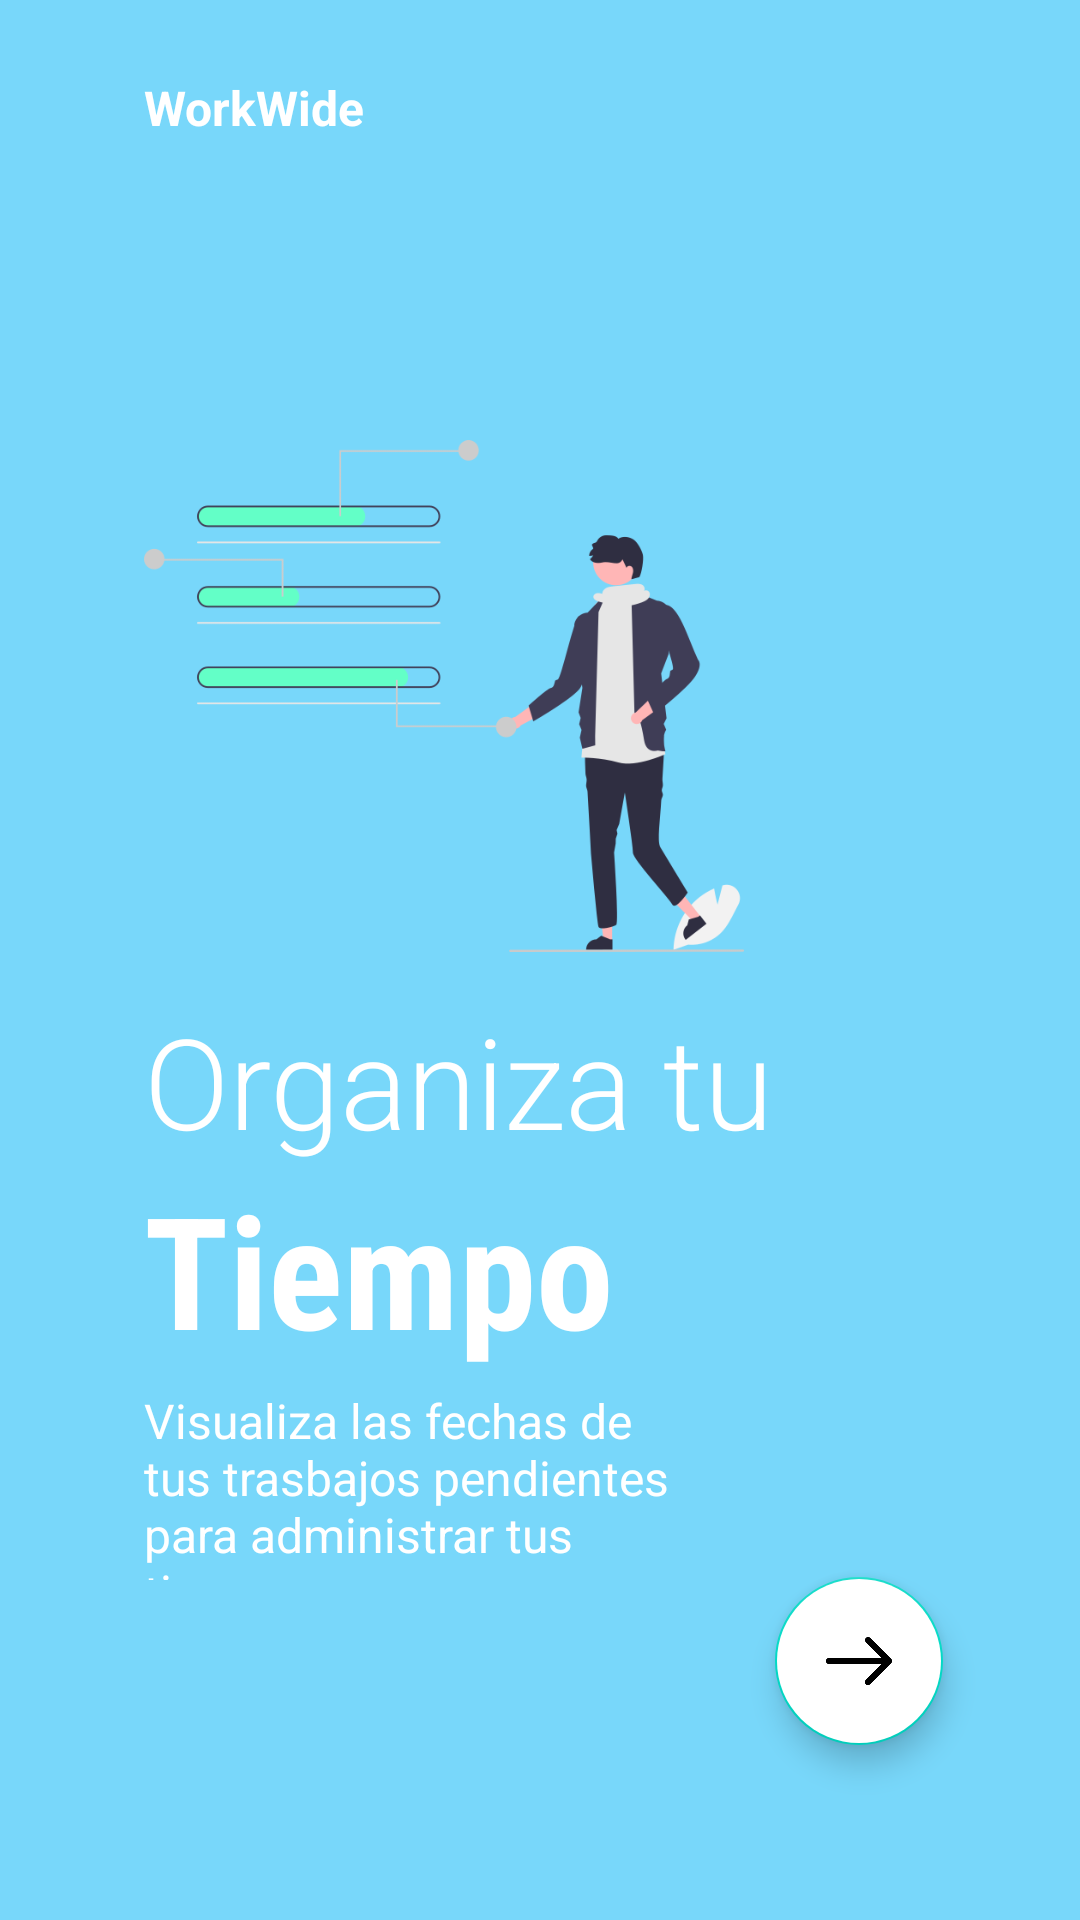

Icons on this 1080*1920 Android screen, each with its box as (x1, y1, x2, y2):
next: (775, 1577, 943, 1745)
